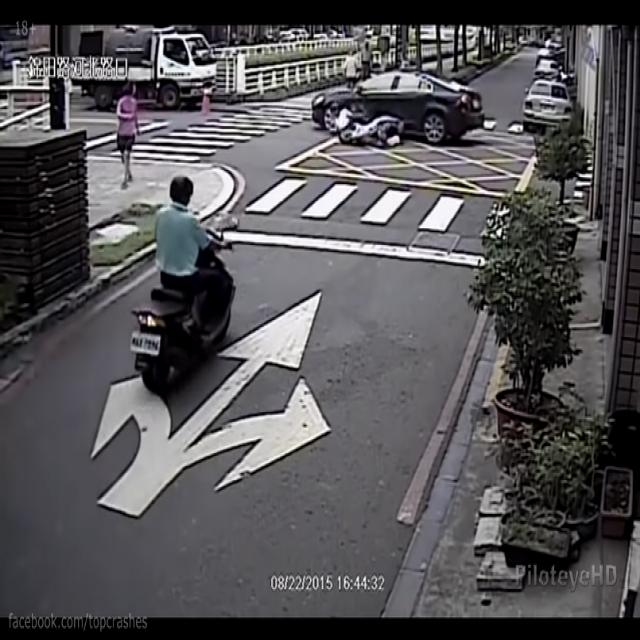accident: (305, 71, 492, 153), (326, 96, 415, 162)
